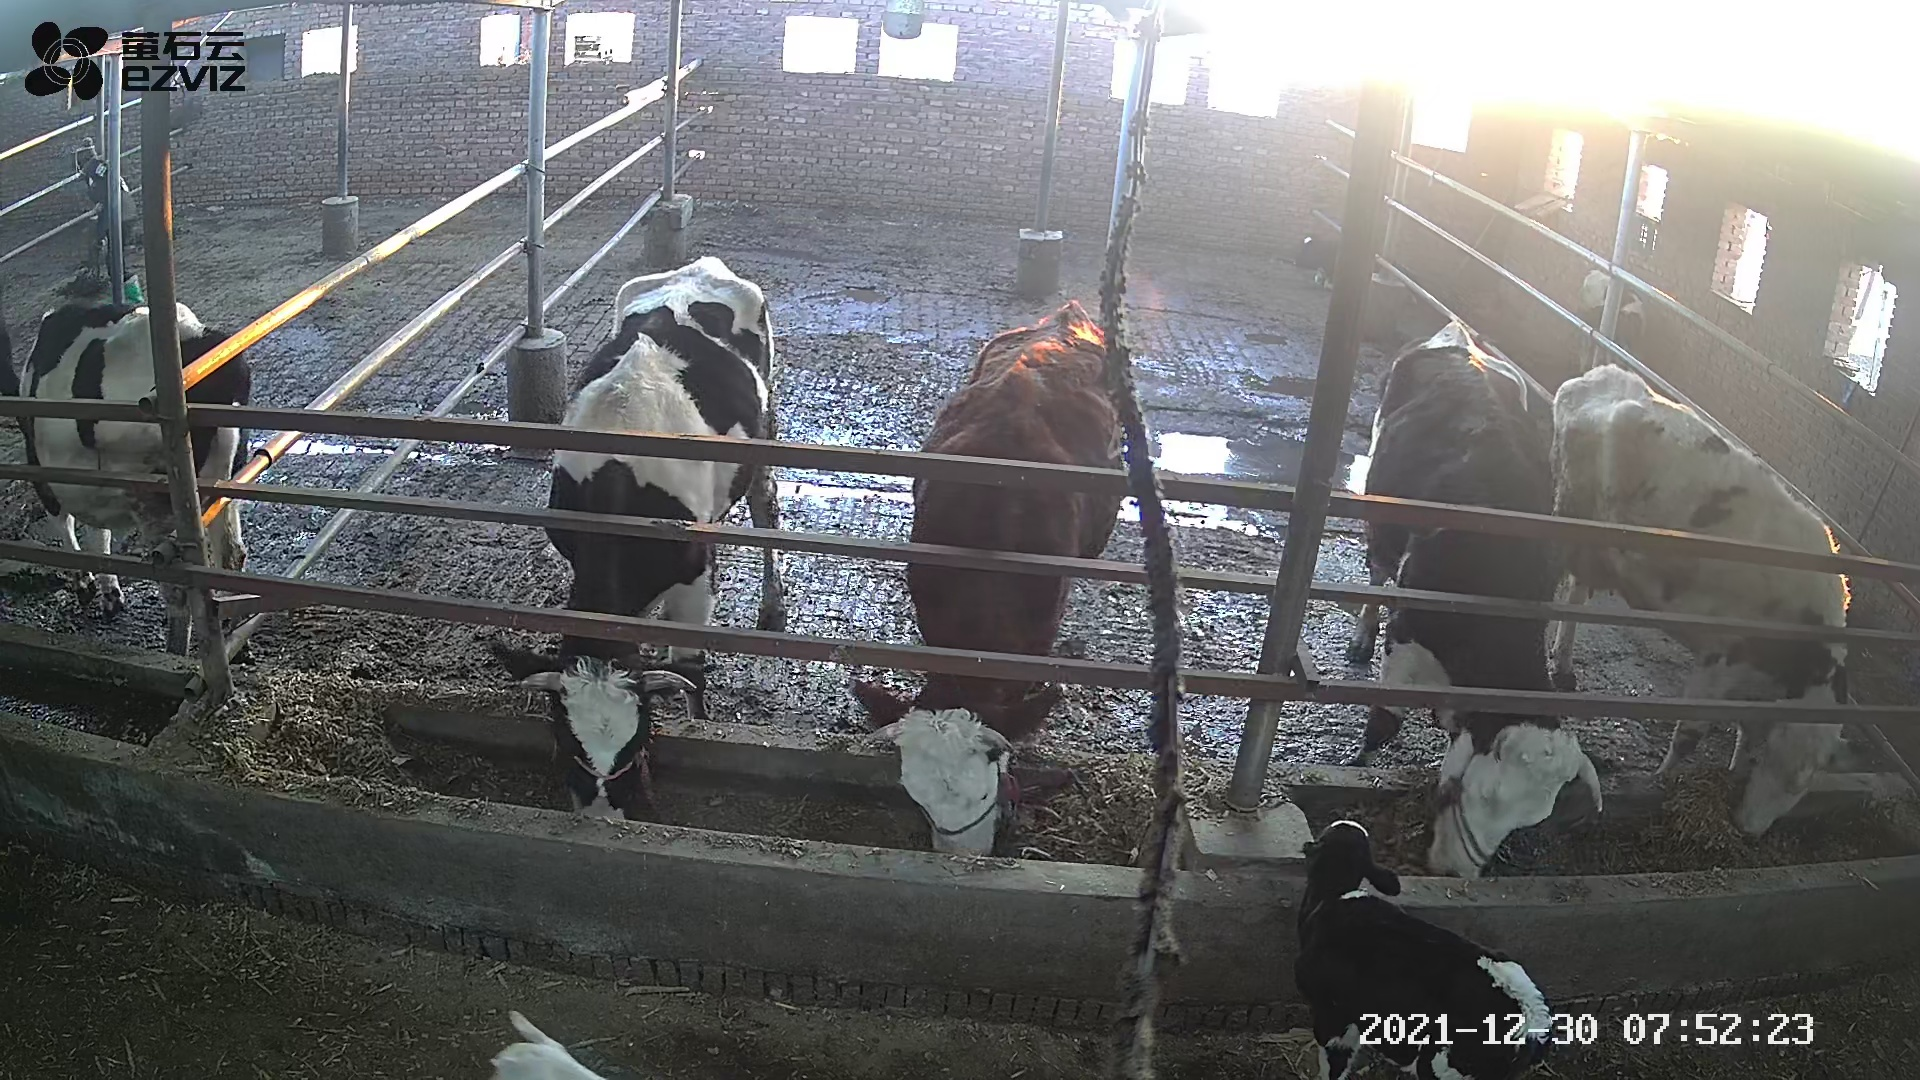cow: (483, 253, 791, 820), (844, 297, 1127, 857), (1344, 313, 1606, 878), (1551, 363, 1849, 841)
